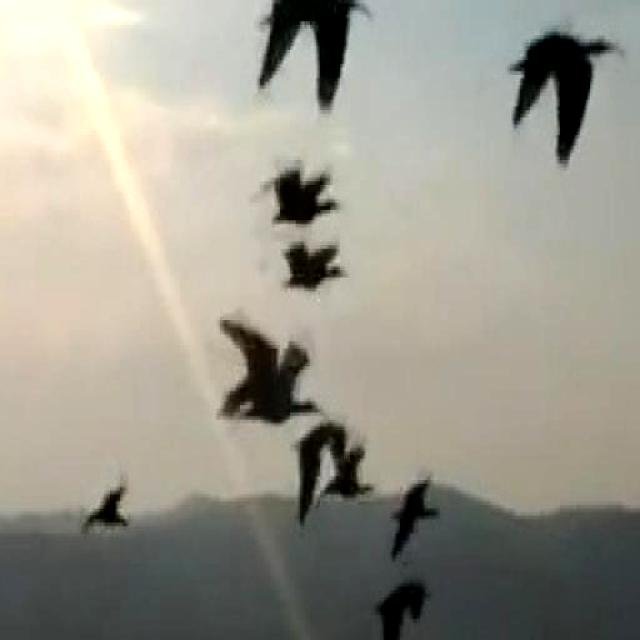airplane: (499, 6, 626, 175), (255, 0, 380, 124), (212, 306, 330, 434), (290, 436, 382, 525), (262, 155, 350, 241), (392, 471, 451, 559), (275, 238, 349, 308), (76, 478, 135, 554), (369, 575, 432, 640)
